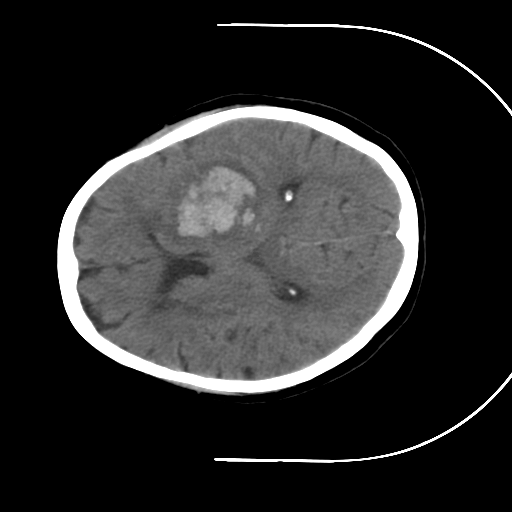a: (155, 147, 271, 256)
